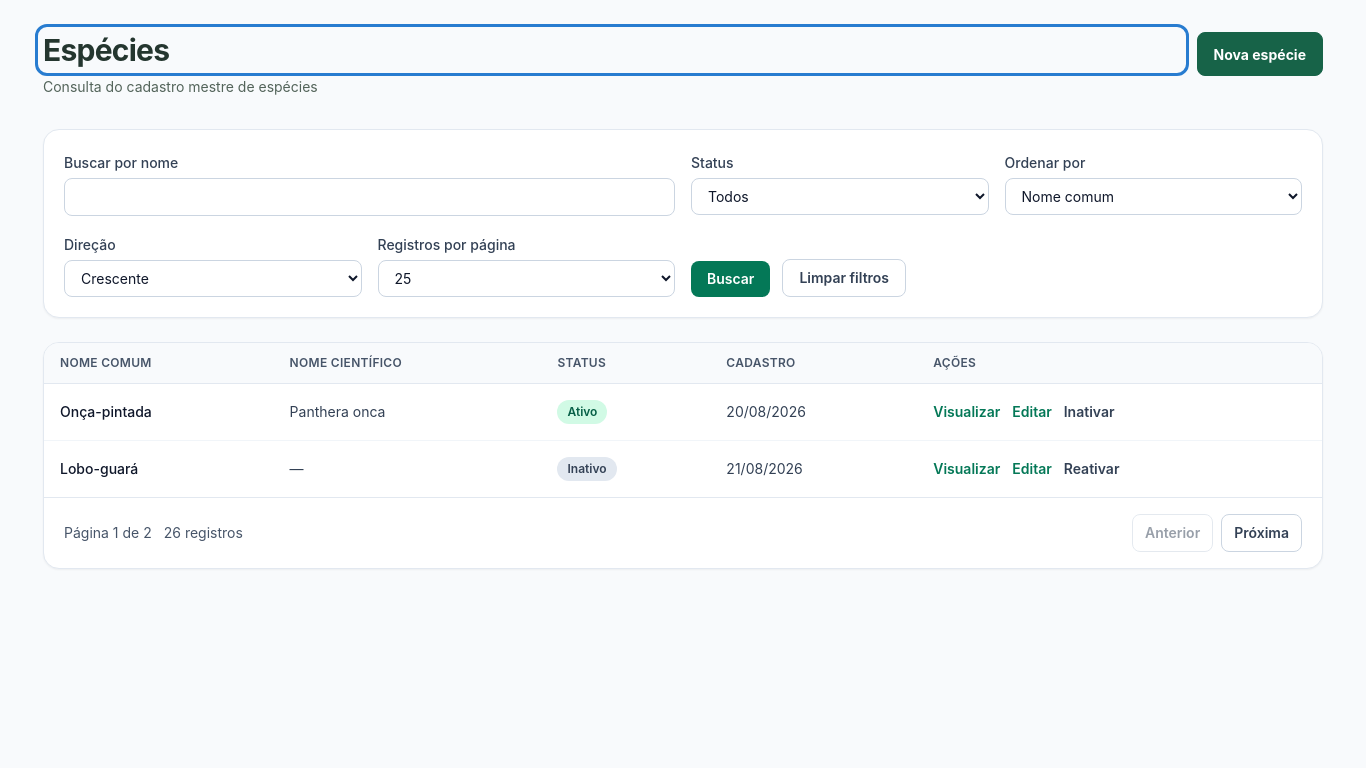
Test: SpeciesListPage › recua para a última página válida após inativar o último registro da página final
expect the text "Onça-pintada" is shown: met, box [44, 384, 274, 440]
Select "Ativos" in the dropdown labelled "Status" at coordinates (840, 196), box [691, 178, 988, 215]
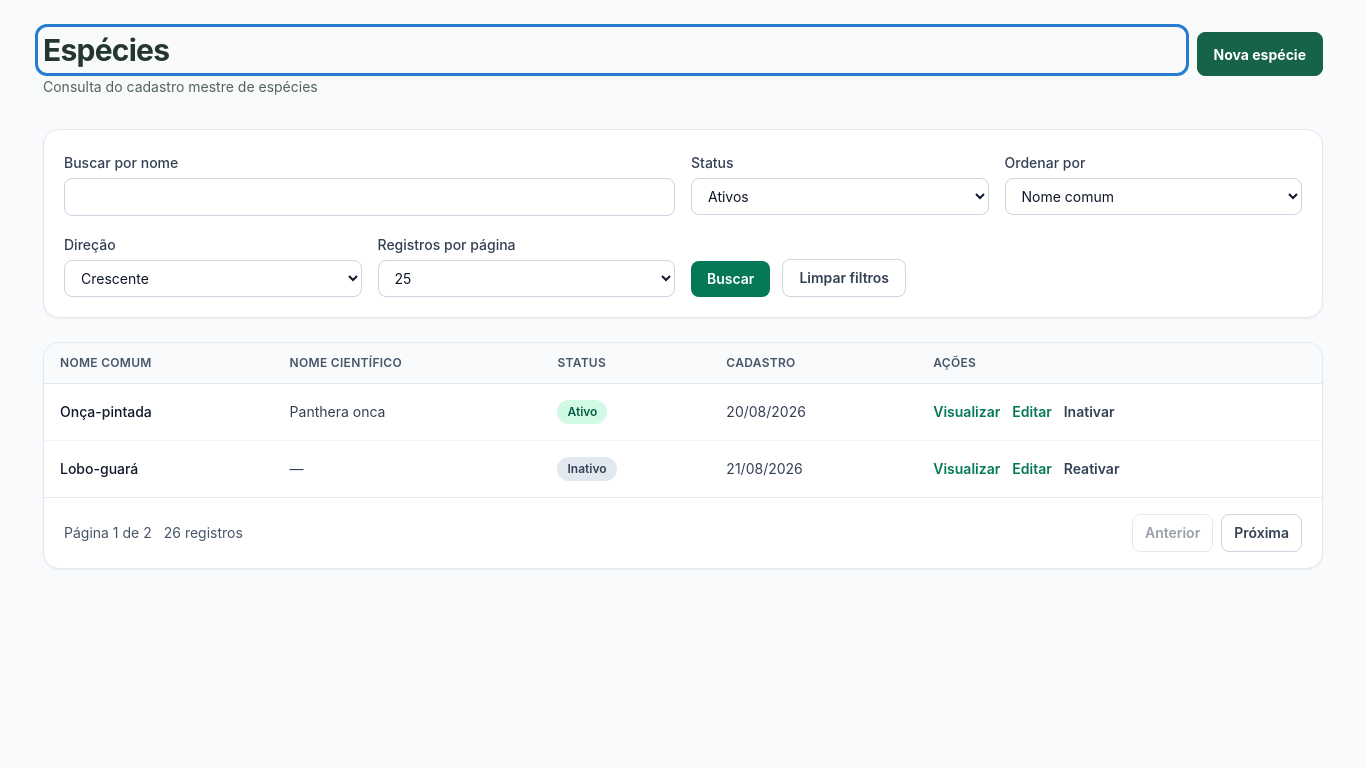
Click the button "Próxima" at coordinates (1262, 533), box [1221, 514, 1302, 552]
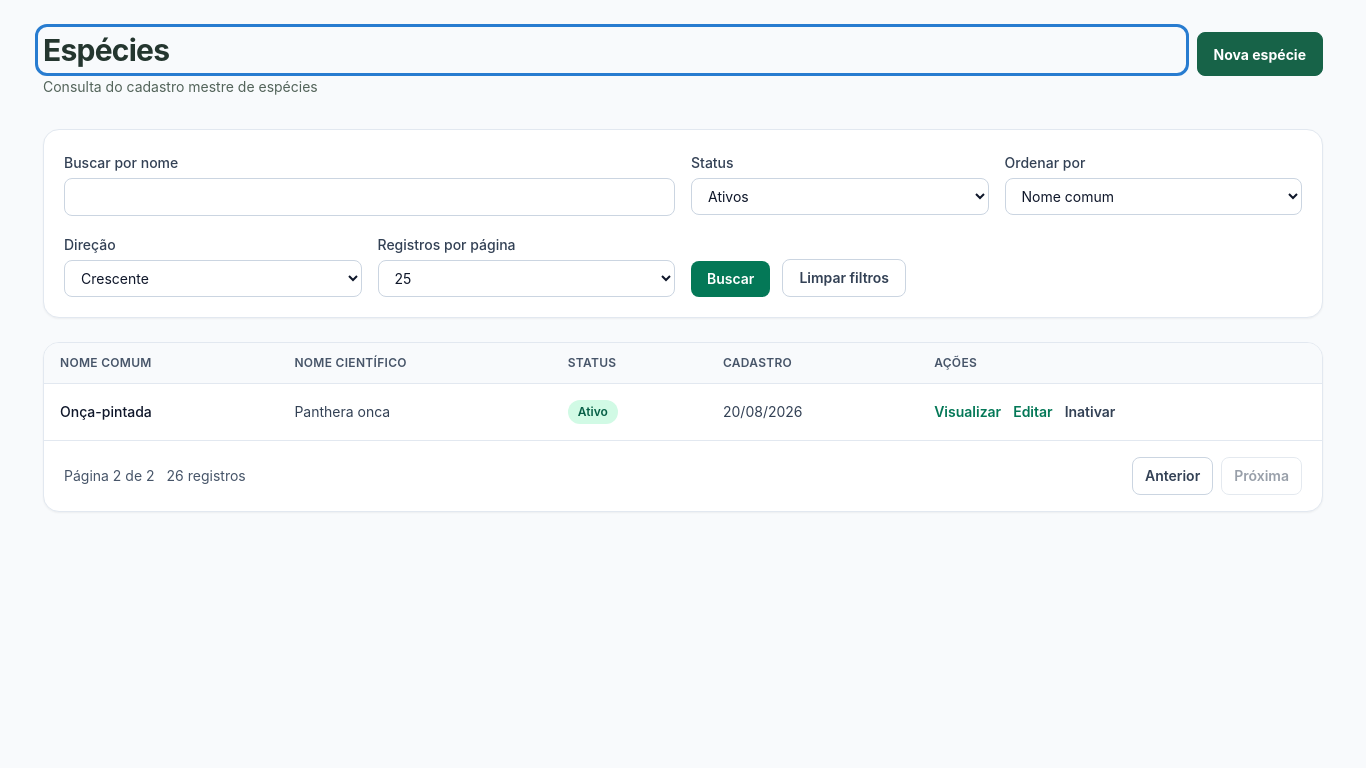
expect the text "Página 2 de 2" is shown: met, box [64, 466, 155, 486]
Click the button "Inativar" at coordinates (1090, 412), box [1065, 402, 1115, 422]
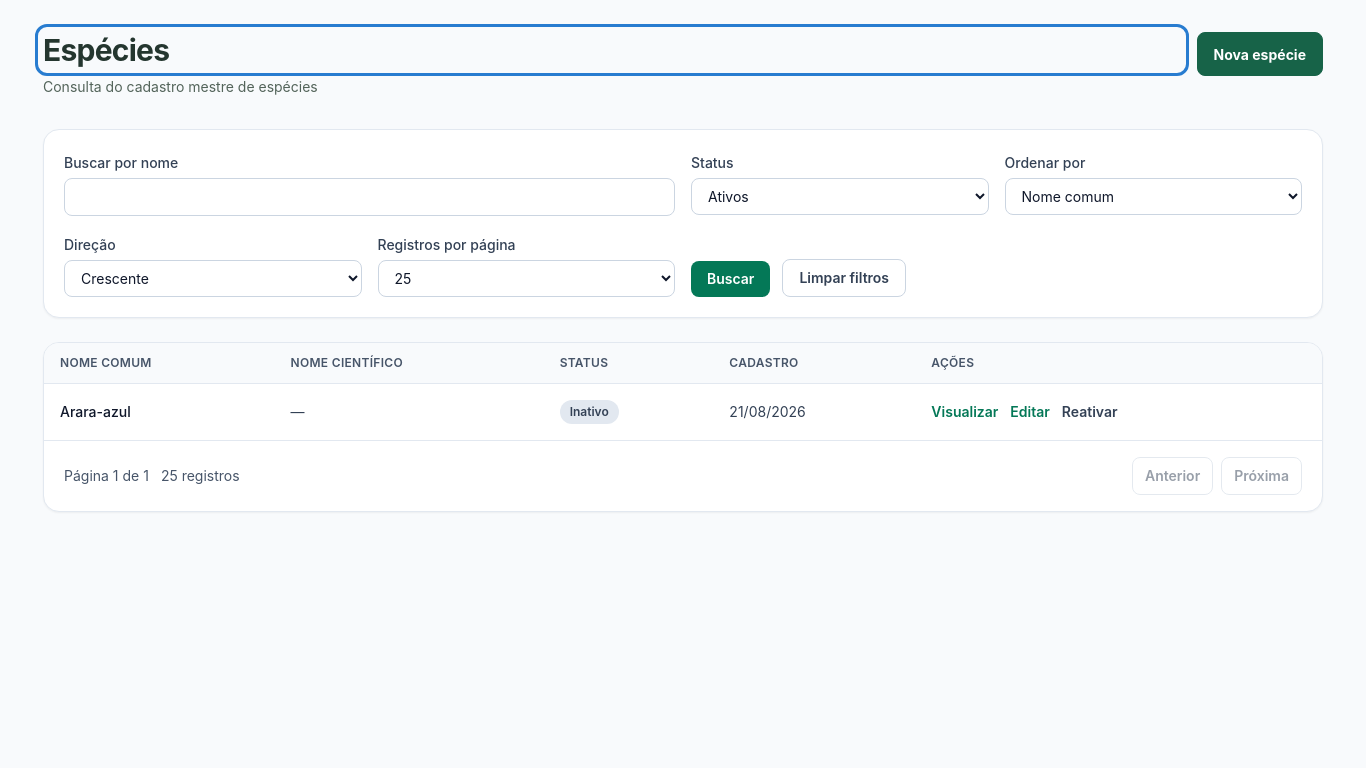
expect the text "Arara-azul" is shown: met, box [44, 384, 275, 440]
expect the text "Página 1 de 1" is shown: met, box [64, 466, 149, 486]
